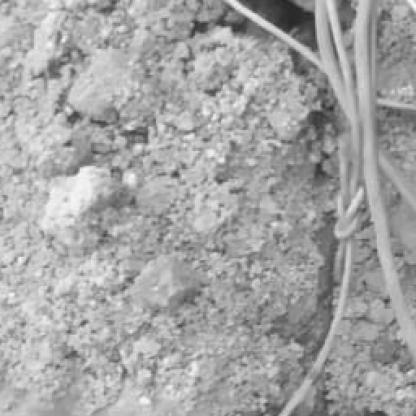cementitious_debris: (0, 0, 347, 414), (297, 230, 414, 414), (378, 173, 414, 332), (379, 0, 414, 102), (380, 110, 414, 186)
